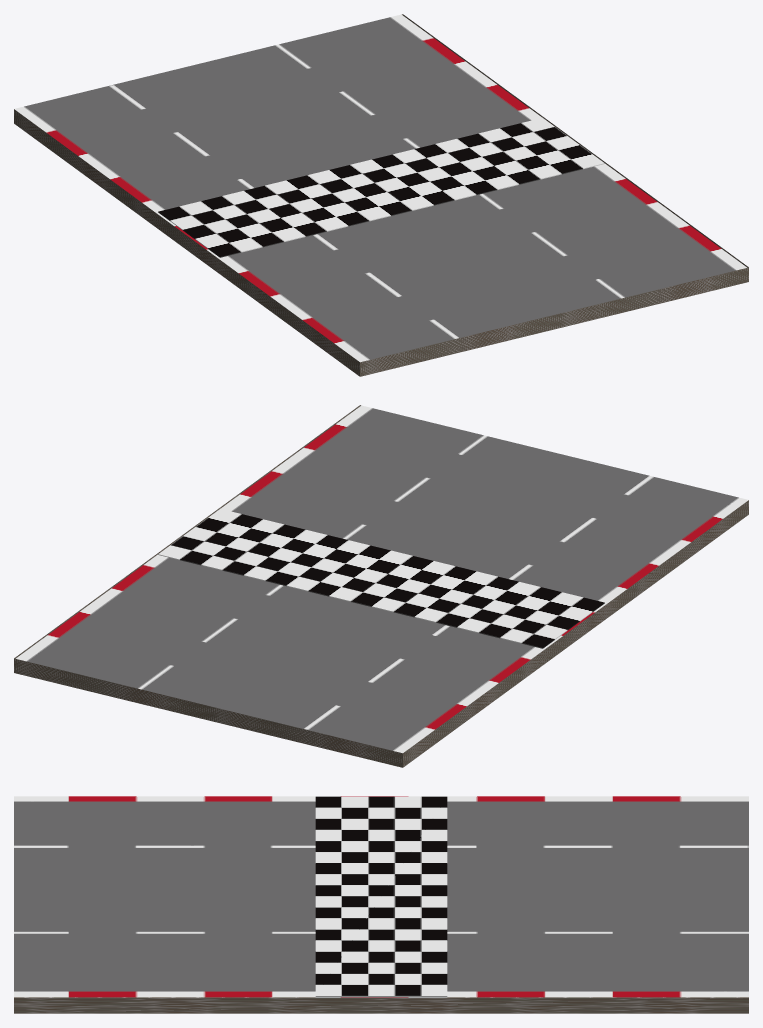
The model's file is Check.fbx.
The picture shows the model from 3 angles, top to bottom: view 1: azimuth 30°, elevation 25°; view 2: azimuth 150°, elevation 25°; view 3: azimuth 270°, elevation 25°; orthographic projection. The views are drawn at different scales.
Visible parts, largest first — view 1: 路直線, Check; view 2: 路直線, Check; view 3: 路直線, Check.
Boxes of the visible parts, left/top/right/bottom form: 路直線: left=14, top=14, right=748, bottom=376; Check: left=158, top=118, right=604, bottom=257; 路直線: left=14, top=405, right=748, bottom=767; Check: left=158, top=509, right=604, bottom=648; 路直線: left=14, top=796, right=748, bottom=1013; Check: left=315, top=796, right=447, bottom=997.
Size of the model in its own units: 24.69 by 0.9794 by 38.06.
Materials: 3 (3 with a texture image).
